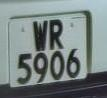0: (49, 49, 67, 83)
5: (14, 48, 37, 88)
6: (65, 45, 82, 81)
9: (33, 51, 50, 85)
R: (48, 15, 66, 54)
W: (30, 15, 50, 54)
